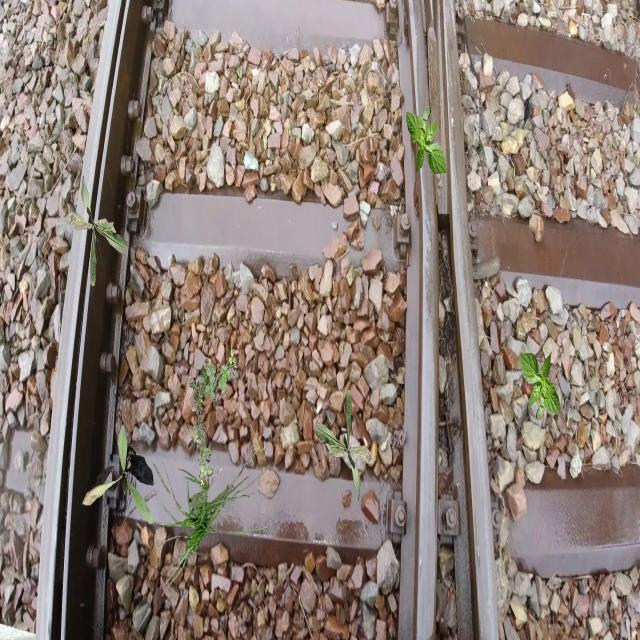Plant: (151, 433, 270, 596), (66, 175, 130, 287), (313, 390, 377, 502), (82, 425, 154, 524), (189, 349, 238, 487), (406, 106, 448, 177), (519, 351, 560, 422)
